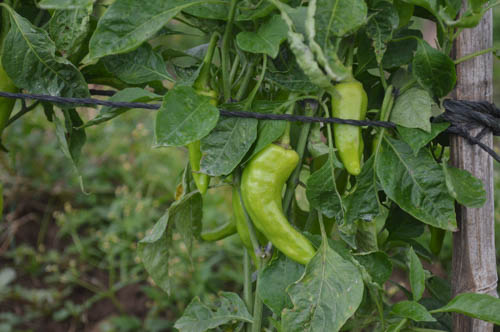ChiliPepper: (242, 147, 315, 264), (185, 92, 218, 194), (332, 83, 365, 179)
